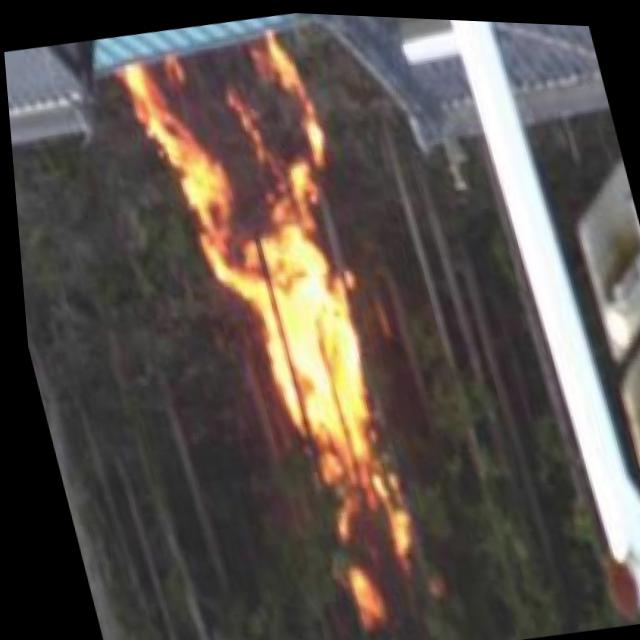Fire: (174, 24, 436, 622)
